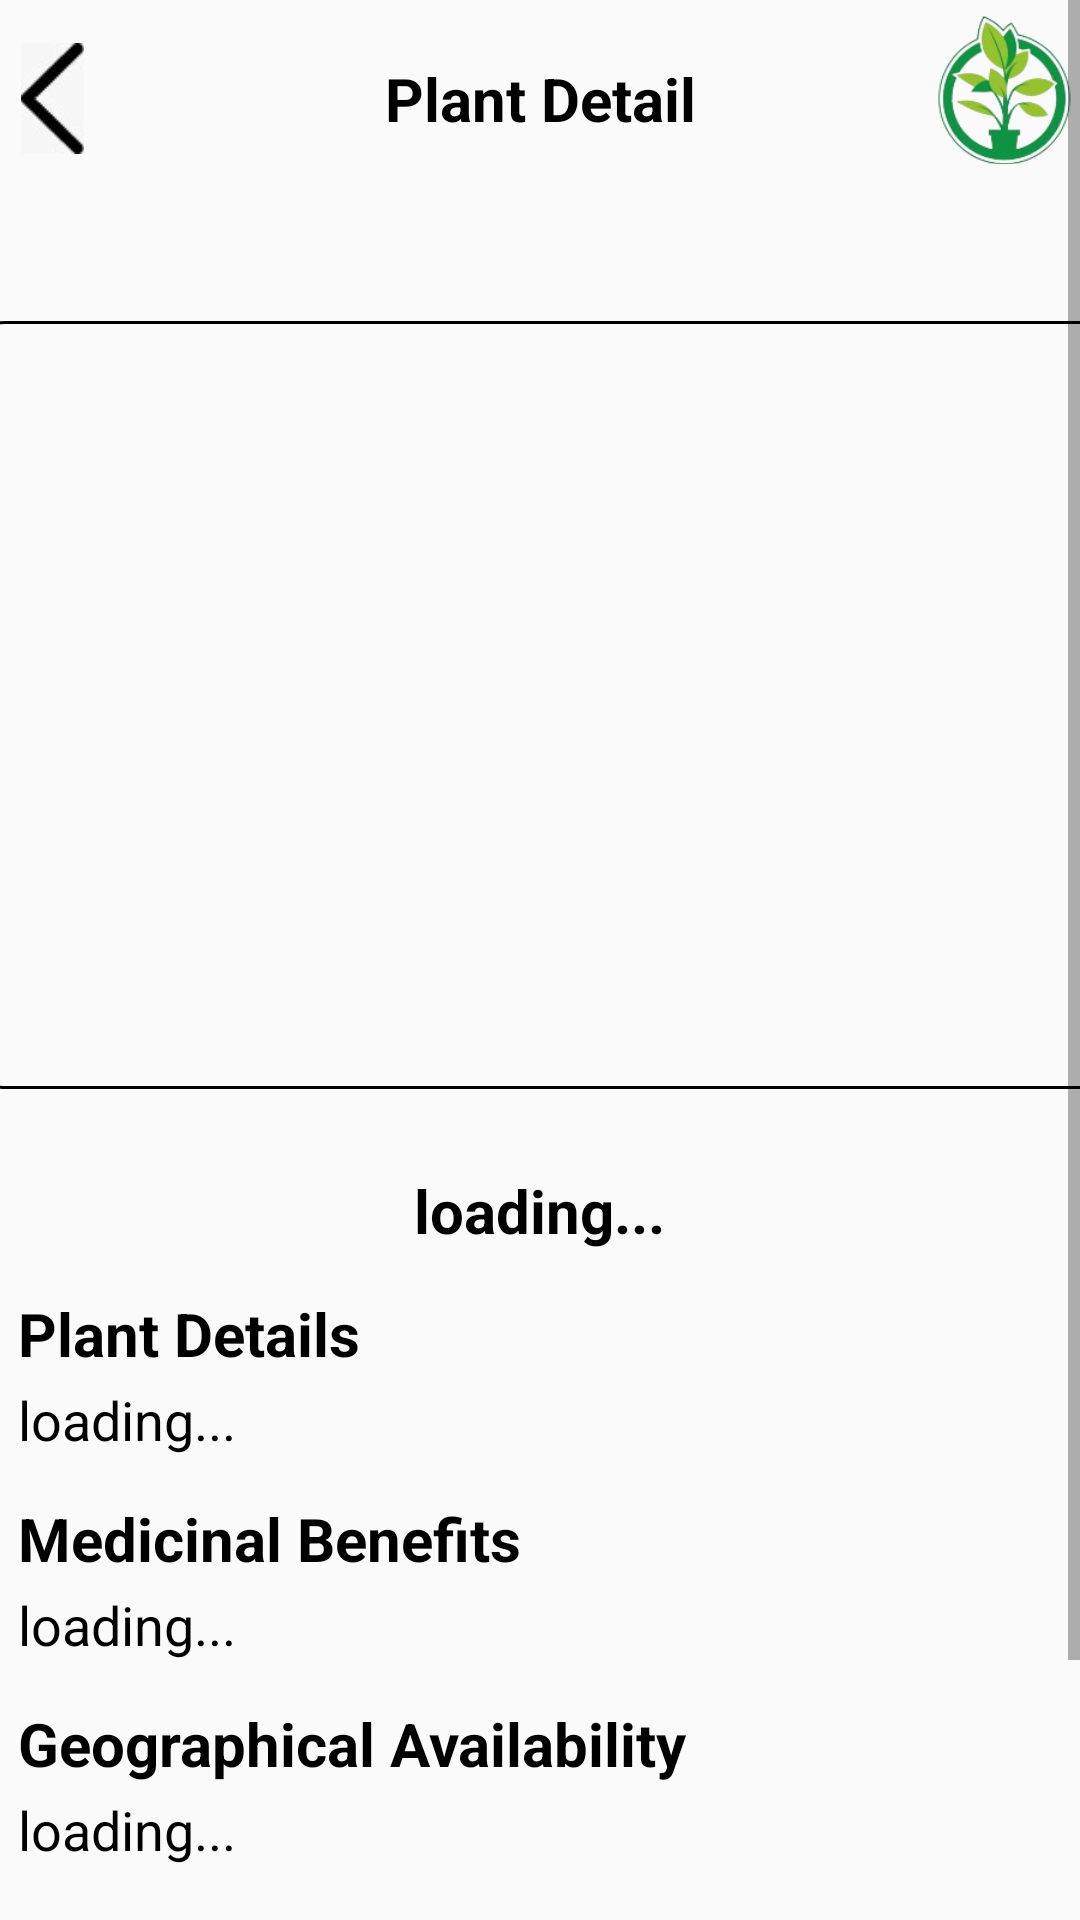

Icon click points for this 1080 x 1920 phone screenshot, format (x=x, y=y):
back: (x=52, y=98)
